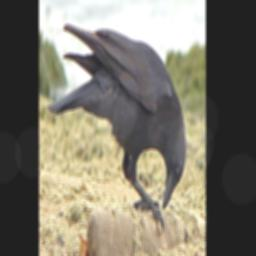Crow: (46, 23, 187, 237)
